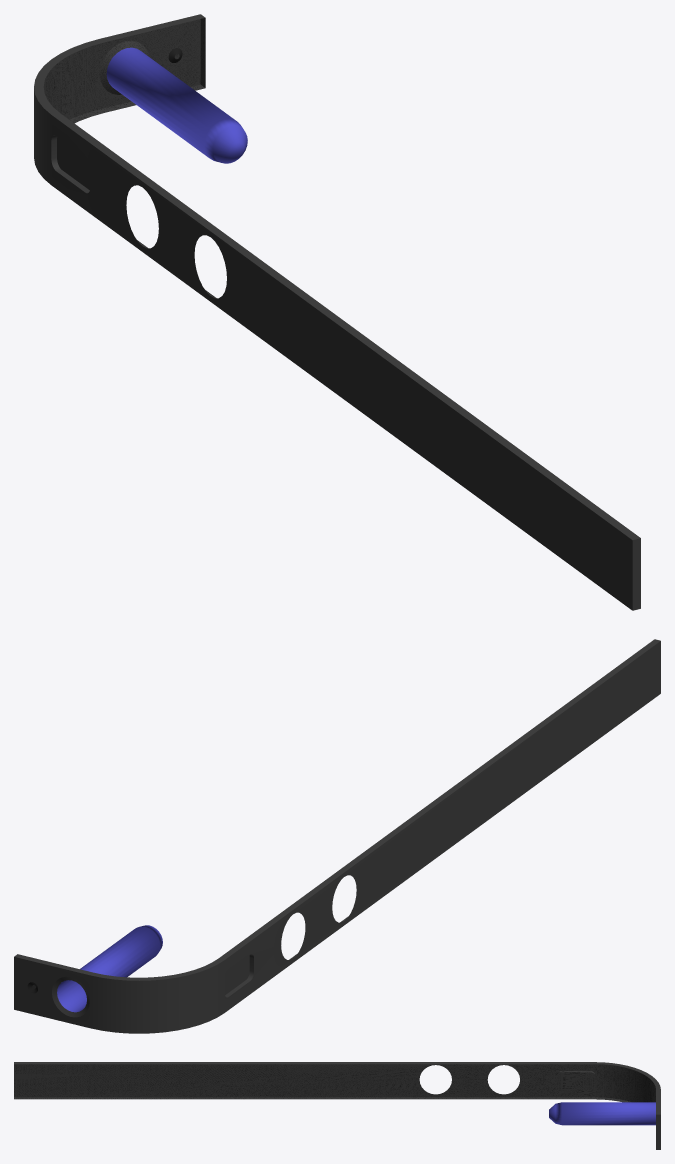
File: original-15.obj
The picture shows the model from 3 angles, top to bottom: view 1: azimuth 30°, elevation 25°; view 2: azimuth 150°, elevation 25°; view 3: azimuth 270°, elevation 25°; orthographic projection. The views are drawn at different scales.
Parts seen in each view (by area): view 1: mesh22/mesh22-geometry#mesh22-geometry; view 2: mesh22/mesh22-geometry#mesh22-geometry; view 3: mesh22/mesh22-geometry#mesh22-geometry.
Boxes of the visible parts, x1,y1,x2,y2 form: mesh22/mesh22-geometry#mesh22-geometry: [34, 14, 640, 610]; mesh22/mesh22-geometry#mesh22-geometry: [14, 639, 660, 1033]; mesh22/mesh22-geometry#mesh22-geometry: [14, 1062, 660, 1149].
Bounding box in the file's own units: 0.1168 × 0.0366 × 0.6085.
